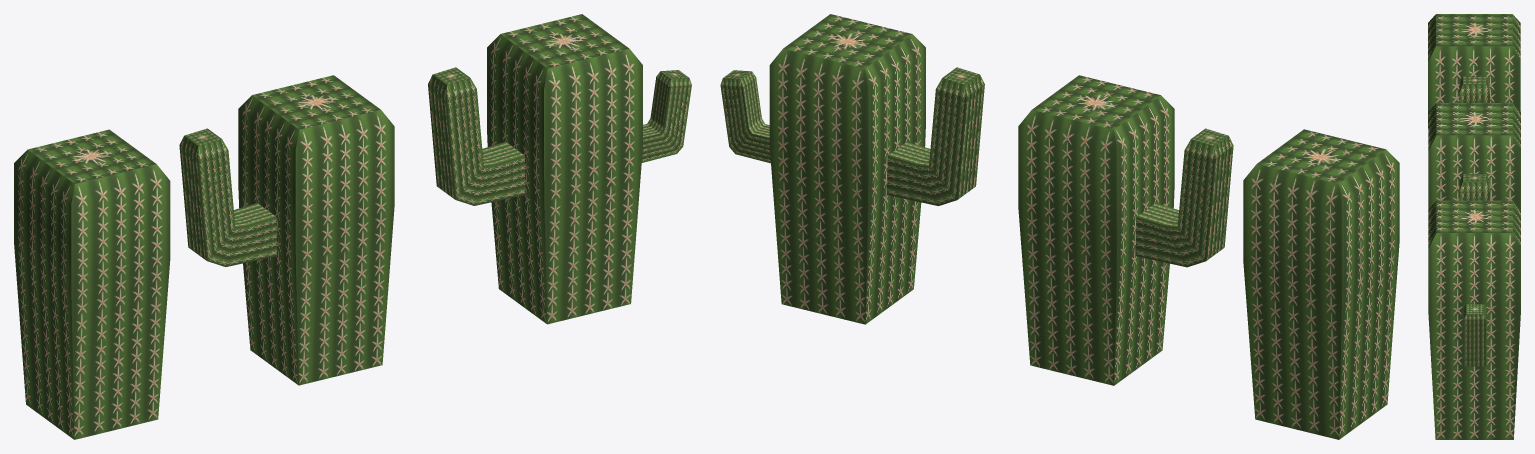
Rendered from 仙人掌.fbx.
3 renders of one model, left to right at view 1: azimuth 30°, elevation 25°; view 2: azimuth 150°, elevation 25°; view 3: azimuth 270°, elevation 25°, orthographic. The views are drawn at different scales.
Visible parts, largest first — view 1: Box001, Box004, Box002; view 2: Box001, Box004, Box002; view 3: Box001, Box004, Box002.
Part boxes in pixels (x1,y1,x2,y2): Box001: [428, 14, 691, 324]; Box004: [179, 75, 394, 385]; Box002: [14, 129, 170, 439]; Box001: [720, 14, 984, 324]; Box004: [1018, 75, 1233, 385]; Box002: [1243, 129, 1399, 439]; Box001: [1428, 174, 1520, 439]; Box004: [1428, 76, 1520, 209]; Box002: [1428, 14, 1520, 127].
Bounding box in the file's own units: 226 × 85.82 × 34.88.
Materials: 1 (1 with a texture image).
